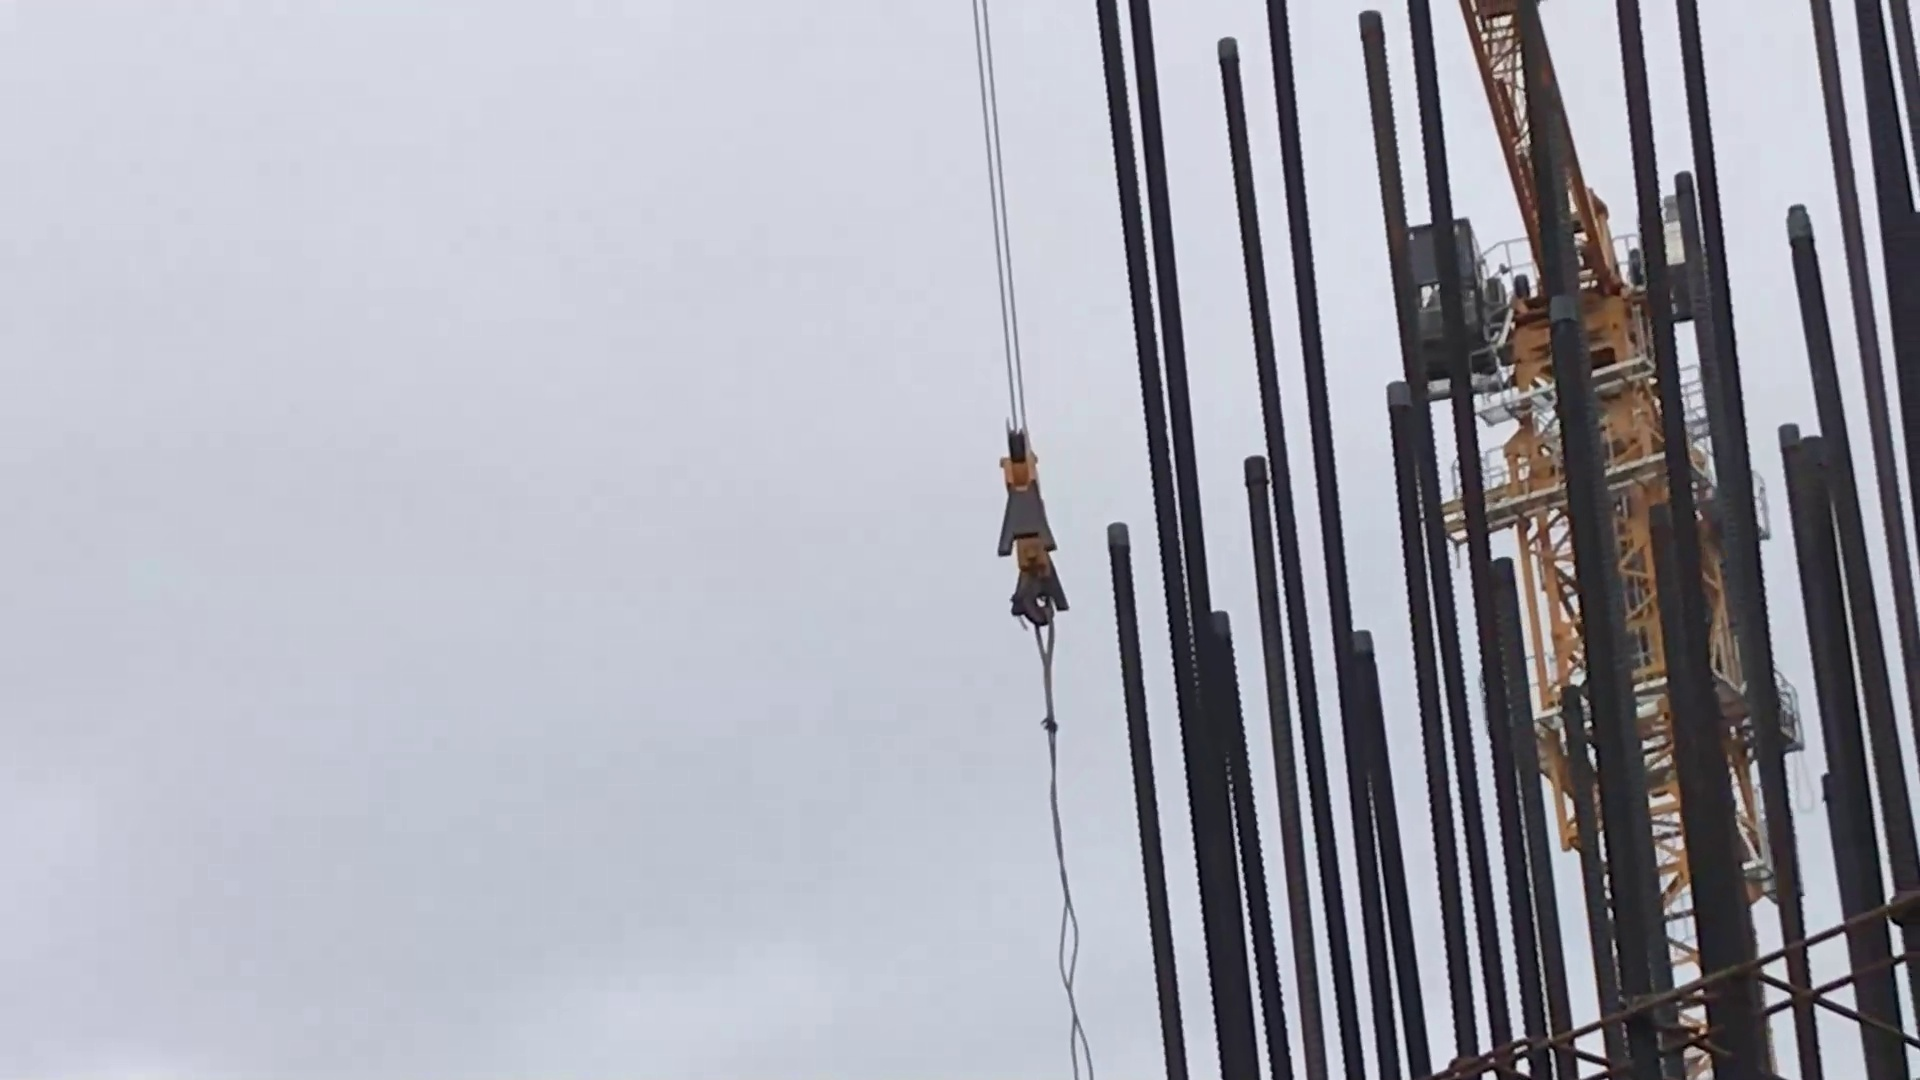hook: (982, 415, 1093, 641)
